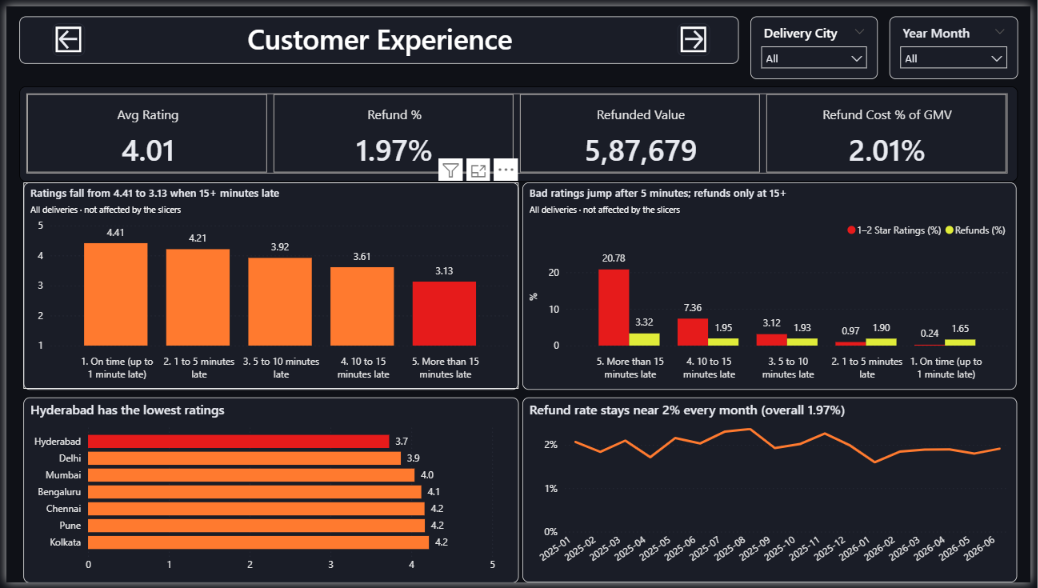

What the dashboard file says about the page in this screenshot:
{"tool":"powerbi","page":{"name":"Customer Experience","canvas":[1280,720],"ordinal":2},"visuals":[{"type":"textbox","title":"Customer Experience","box":[16.2,12.2,899.4,59.4],"z":0},{"type":"slicer","fields":{"Values":["dw fact_orders.delivery_city"]},"box":[930.5,12.2,159.4,78.3],"z":1000},{"type":"slicer","fields":{"Values":["dw dim_date.year_month"]},"box":[1103.4,12.2,160.7,78.3],"z":2000},{"type":"cardVisual","fields":{"Data":["measures_table.Avg Rating","measures_table.Refund %","measures_table.Refunded Value","measures_table.Refund Cost % of GMV"]},"box":[16.2,99.9,1247.9,118.8],"z":3000},{"type":"clusteredColumnChart","title":"Ratings fall from 4.41 to 3.13 when 15+ minutes late","fields":{"Category":["rpt vw_lateness_impact.lateness_band"],"Y":["Avg(rpt vw_lateness_impact.avg_rating)"]},"box":[21.7,219.6,618.9,259.4],"z":4000},{"type":"clusteredColumnChart","title":"Bad ratings jump after 5 minutes; refunds only at 15+","fields":{"Category":["rpt vw_lateness_impact.lateness_band"],"Y":["Avg(rpt vw_lateness_impact.pct_ratings_1_or_2)","Avg(rpt vw_lateness_impact.refund_pct)"]},"box":[645.4,219.6,617.7,259.4],"z":5000},{"type":"clusteredBarChart","title":"Hyderabad has the lowest ratings","fields":{"Category":["dw fact_orders.delivery_city"],"Y":["measures_table.Avg Rating"]},"box":[21.7,488.6,618.9,231.6],"z":6000},{"type":"lineChart","title":"Refund rate stays near 2% every month (overall 1.97%)","fields":{"Category":["dw dim_date.year_month"],"Y":["measures_table.Refund %"]},"box":[645,489,618,231],"z":7000},{"type":"actionButton","box":[58,21.6,40.5,40.5],"z":7001},{"type":"actionButton","box":[839.3,21.6,40.5,40.5],"z":7002}]}

Visuals, with their boxes in screenshot pixels (x1, y1, x2, y2), scaled from the page's 1280x720 canvas onto the 1038x588 screenshot:
"Customer Experience" textbox: 13 10 742 58
slicer - dw fact_orders.delivery_city: 755 10 884 74
slicer - dw dim_date.year_month: 895 10 1025 74
cardVisual - measures_table.Avg Rating x measures_table.Refund %: 13 82 1025 179
"Ratings fall from 4.41 to 3.13 when 15+ minutes late" clusteredColumnChart: 18 179 519 391
"Bad ratings jump after 5 minutes; refunds only at 15+" clusteredColumnChart: 523 179 1024 391
"Hyderabad has the lowest ratings" clusteredBarChart: 18 399 519 587
"Refund rate stays near 2% every month (overall 1.97%)" lineChart: 523 399 1024 587
actionButton: 47 18 80 51
actionButton: 681 18 713 51
